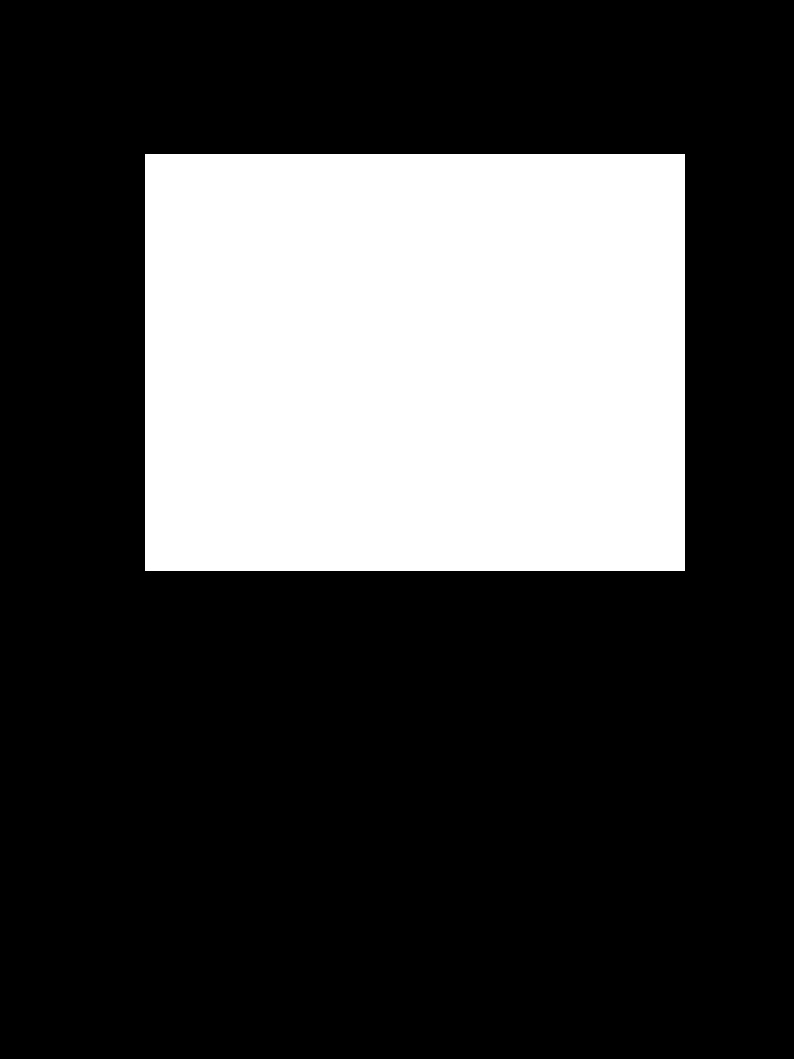table: (145, 154, 684, 570)
